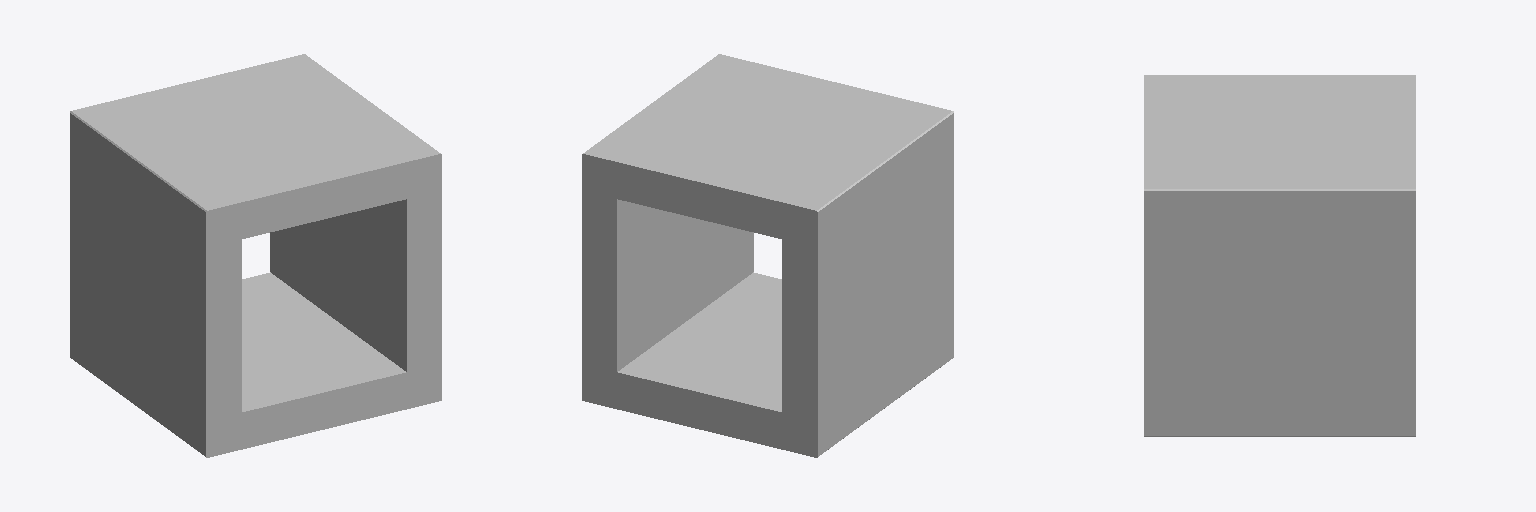
File: cubeContainer.obj
3 renders of one model, left to right at view 1: azimuth 30°, elevation 25°; view 2: azimuth 150°, elevation 25°; view 3: azimuth 270°, elevation 25°, orthographic.
Parts seen in each view (by area): view 1: obj_0; view 2: obj_0; view 3: obj_0.
Part boxes in pixels (left/top/right/bottom): obj_0: left=70, top=54, right=441, bottom=457; obj_0: left=582, top=54, right=953, bottom=457; obj_0: left=1144, top=75, right=1415, bottom=436.
Bounding box in the file's own units: 20 × 20 × 20.